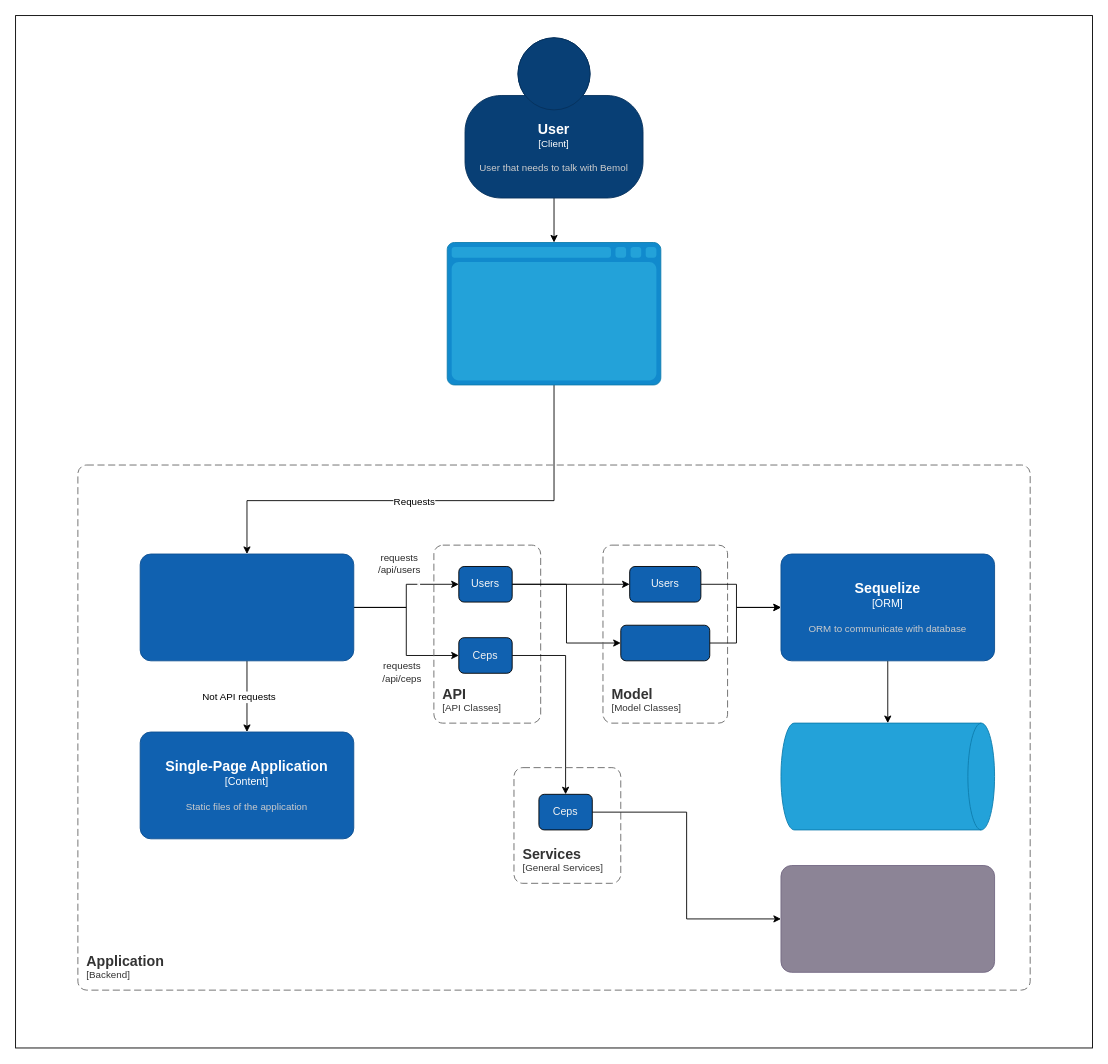
This 1108x1064 diagram has some shape labels left out. Each missing label, with the centre of its shape:
Database [Container: Mysql] Database storage: pixel 887 776
ExpressJS [System Server] Server for handle requests: pixel 246 607
External Cep API [API] Viacep API: pixel 887 918
UserAddresses: pixel 665 642
Web Application [Container: React] Provides user interface to the application: pixel 553 313
